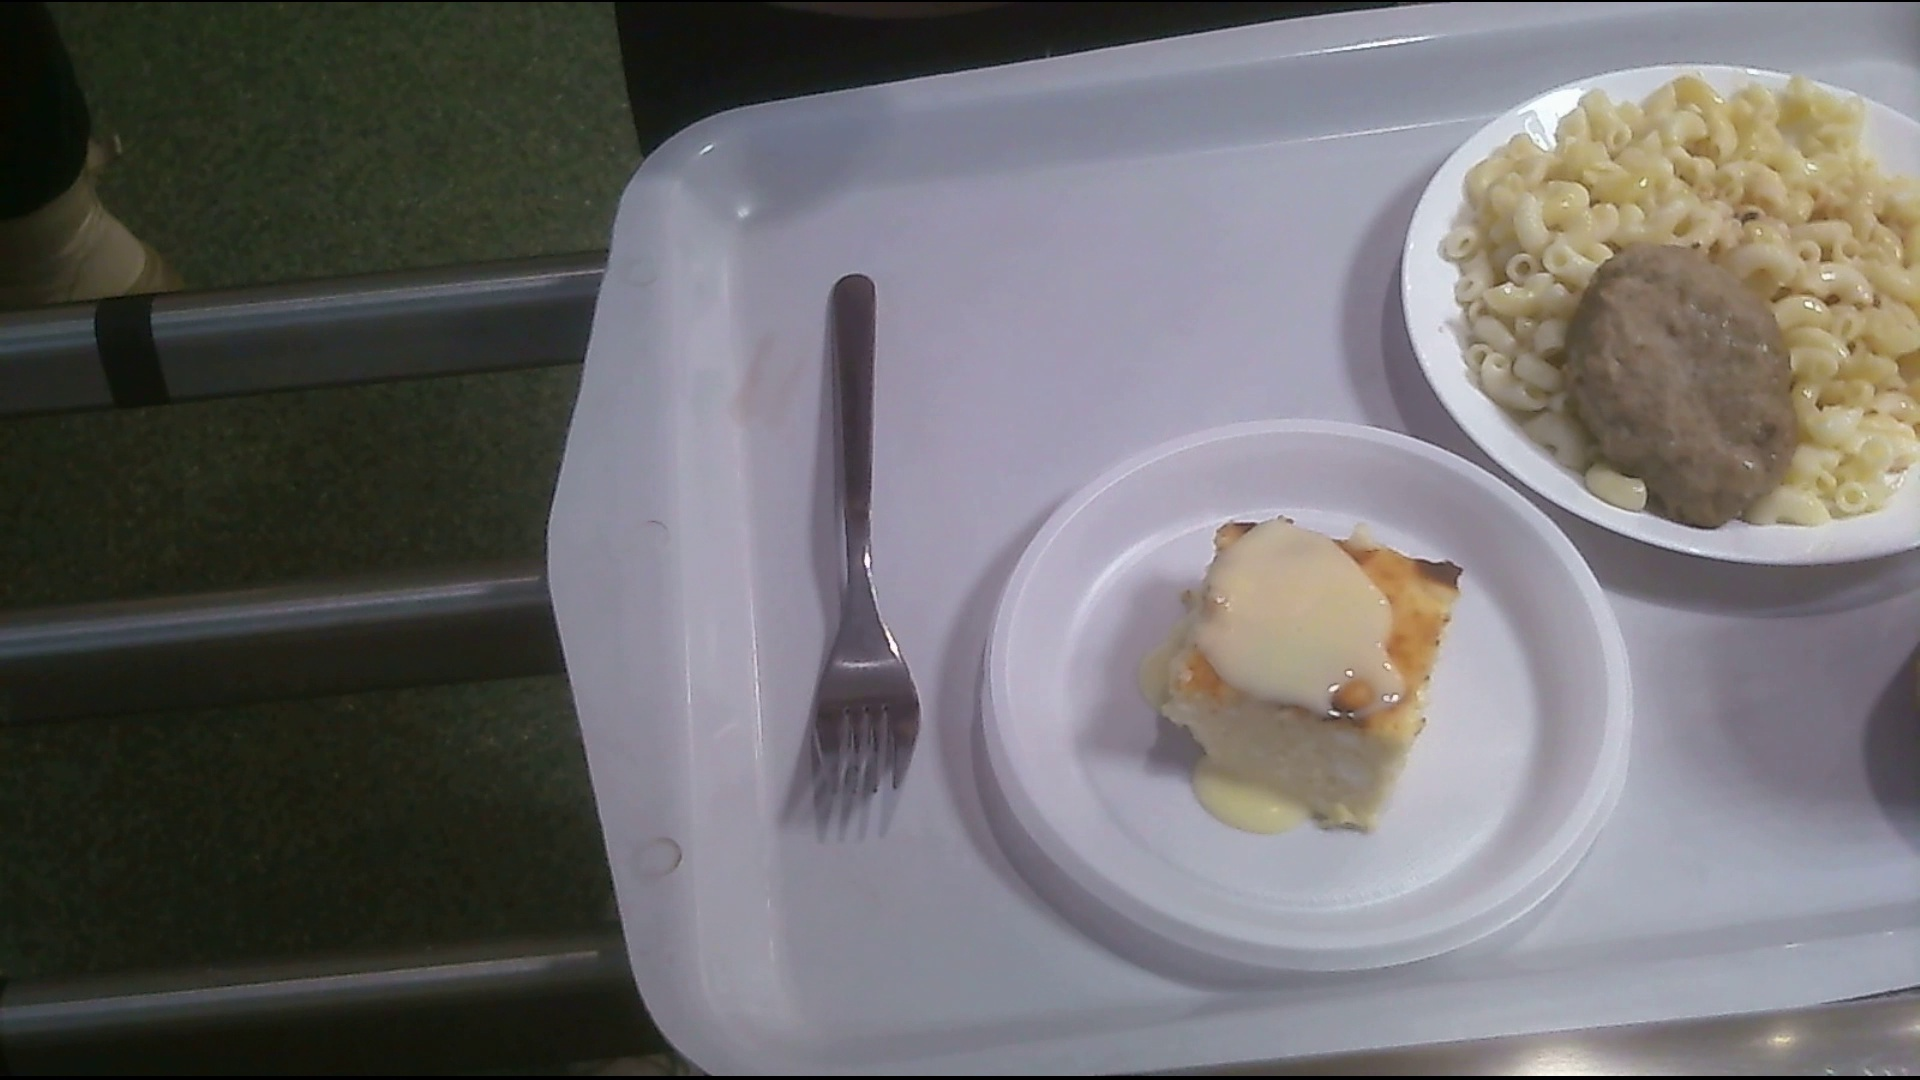cutlery: (793, 260, 923, 811)
plate: (985, 415, 1625, 969), (1404, 62, 1920, 570)
